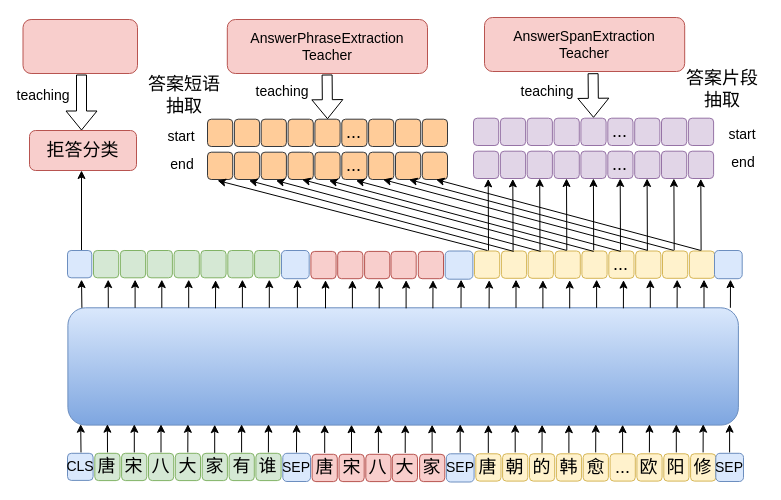
Image size: 781x500. Some labels were removed from this diagram. Each missing label, with the box of its shape:
MiniBERT: (67, 307, 738, 425)
PassageRanking Teacher: (22, 18, 138, 74)
